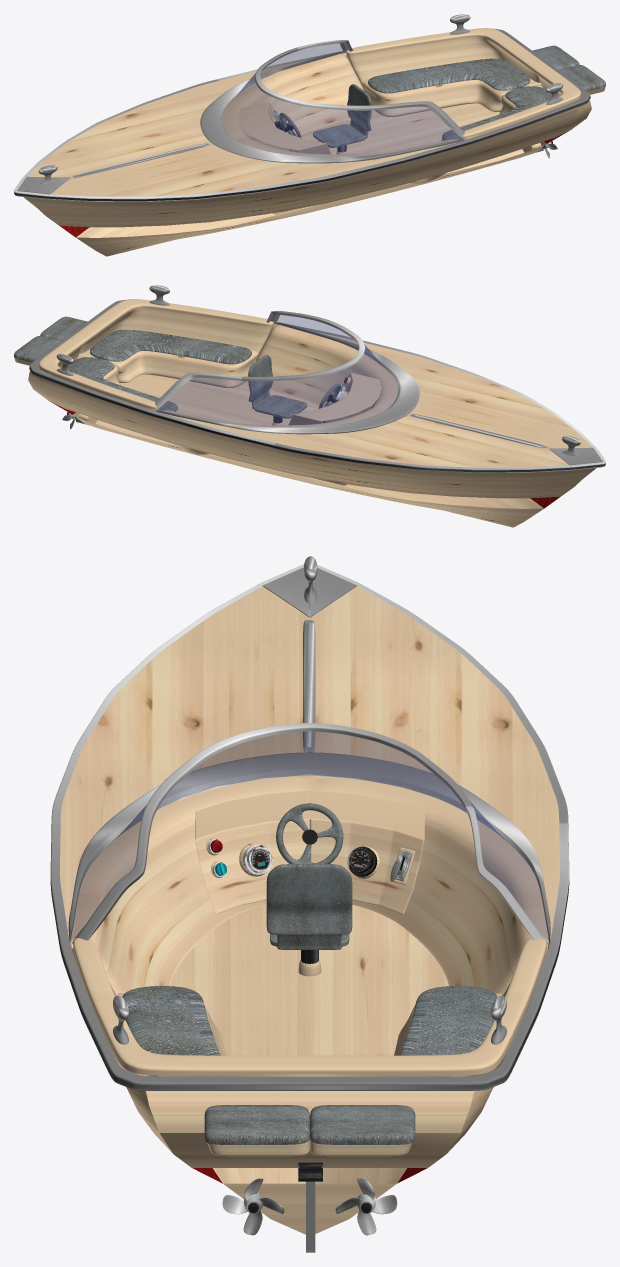
The model's file is speed_boat_05.glb.
3 views of the same model, one above another, from view 1: azimuth 30°, elevation 25°; view 2: azimuth 150°, elevation 25°; view 3: azimuth 270°, elevation 25° (orthographic). The views are drawn at different scales.
Parts seen in each view (by area): view 1: Object_21, Object_24, Object_4, Object_28, Object_20, Object_16, Object_25, Object_17, Object_27, Object_14, Object_10, Object_19; view 2: Object_21, Object_24, Object_4, Object_28, Object_20, Object_17, Object_16, Object_27, Object_14, Object_25, Object_10, Object_19; view 3: Object_24, Object_21, Object_28, Object_20, Object_4, Object_16, Object_17, Object_27, Object_23, Object_14, Object_19, Object_6 (+1 smaller).
Boxes of the visible parts, x1,y1,x2,y2 form: Object_21: (24,52,591,256); Object_24: (213,28,581,221); Object_4: (221,43,463,156); Object_28: (368,45,605,140); Object_20: (200,40,465,163); Object_16: (14,38,590,201); Object_25: (346,34,581,140); Object_17: (14,28,589,201); Object_27: (313,84,371,147); Object_14: (14,52,590,201); Object_10: (38,14,563,185); Object_19: (17,176,70,194); Object_21: (28,323,595,527); Object_24: (38,299,397,485); Object_4: (156,315,398,427); Object_28: (14,316,251,411); Object_20: (153,311,419,434); Object_17: (29,333,605,472); Object_16: (29,299,605,472); Object_27: (248,355,307,418); Object_14: (29,323,605,472); Object_25: (39,305,273,400); Object_10: (56,285,580,456); Object_19: (549,447,602,465); Object_24: (71,776,548,1076); Object_21: (60,586,559,1234); Object_28: (122,986,497,1144); Object_20: (68,723,550,945); Object_4: (70,731,549,942); Object_16: (50,564,568,1235); Object_17: (50,565,569,1252); Object_27: (266,864,352,949); Object_23: (206,838,412,1193); Object_14: (50,881,569,1089); Object_19: (262,567,356,617); Object_6: (276,803,343,863).
Bounding box in the file's own units: 5.29 × 1.15 × 2.09.
Materials: 18 (17 with a texture image).
